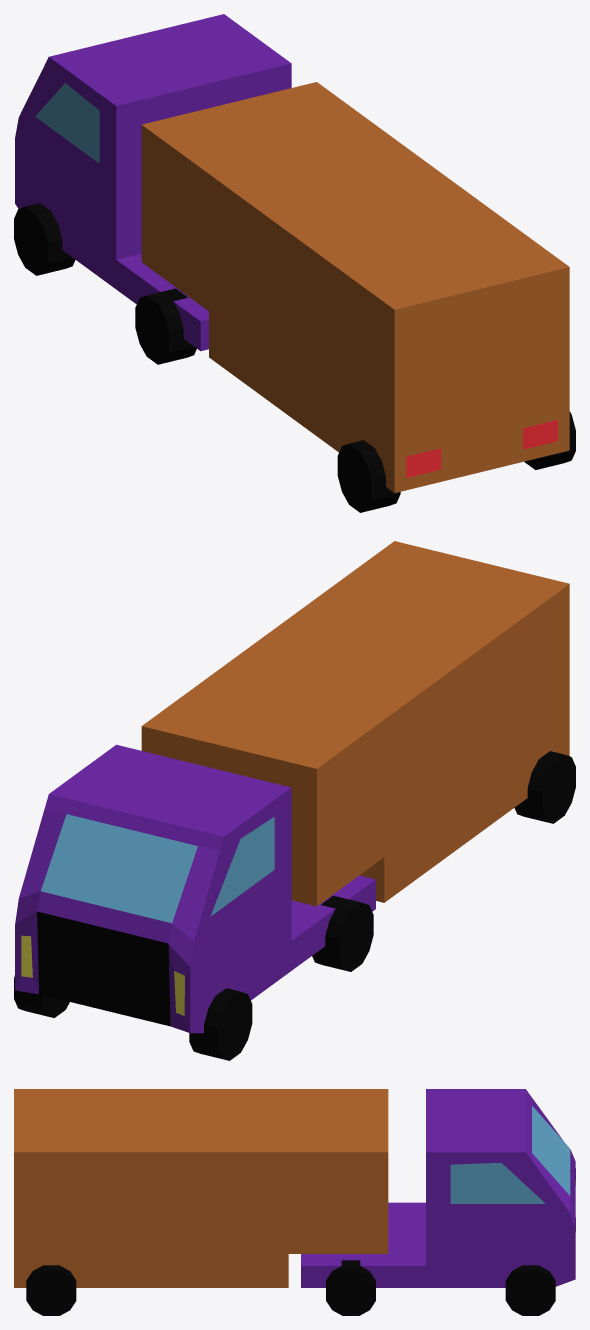
File: prop-semi.fbx
3 renders of one model, top to bottom at view 1: azimuth 30°, elevation 25°; view 2: azimuth 150°, elevation 25°; view 3: azimuth 270°, elevation 25°, orthographic. The views are drawn at different scales.
Visible parts, largest first — view 1: prop-semi; view 2: prop-semi; view 3: prop-semi.
Part boxes in pixels (<box>): prop-semi: <box>14,14,575,512</box>; prop-semi: <box>14,541,575,1060</box>; prop-semi: <box>14,1089,575,1315</box>.
Size of the model in its own units: 87.5 by 87.5 by 281.
